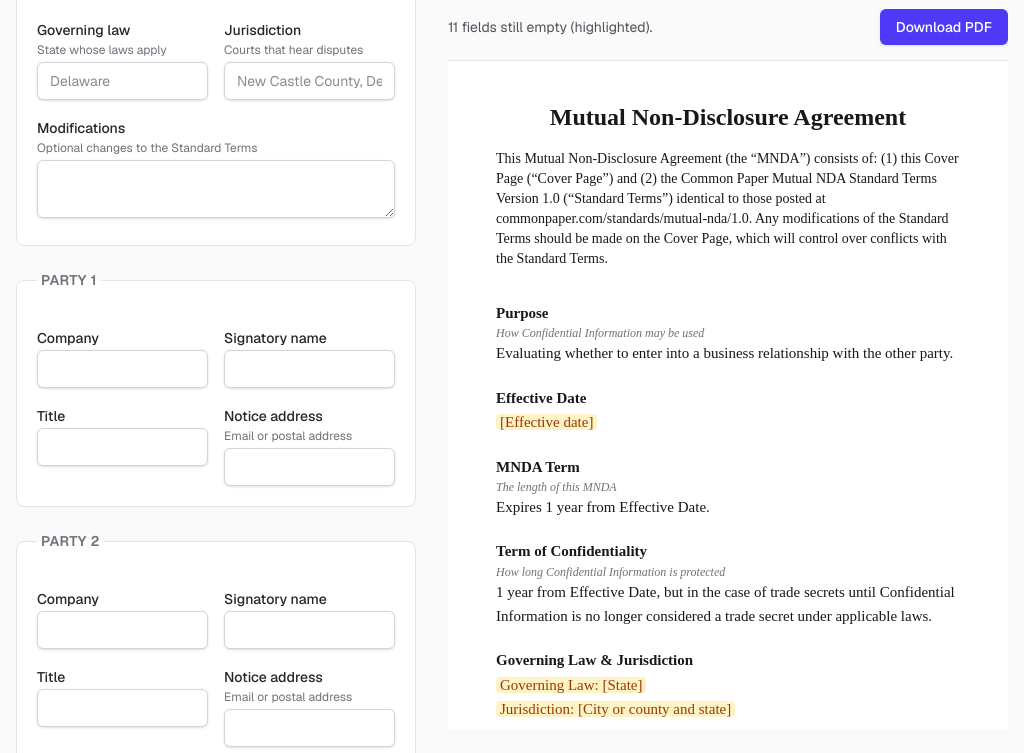
NdaBuilder › updates the preview and missing count as the user types
(page scrolled)
Type "Acme" into the field labelled "Company" below "Party 1".
click(122, 369); type("Acme")  # box left=37, top=350, right=208, bottom=388
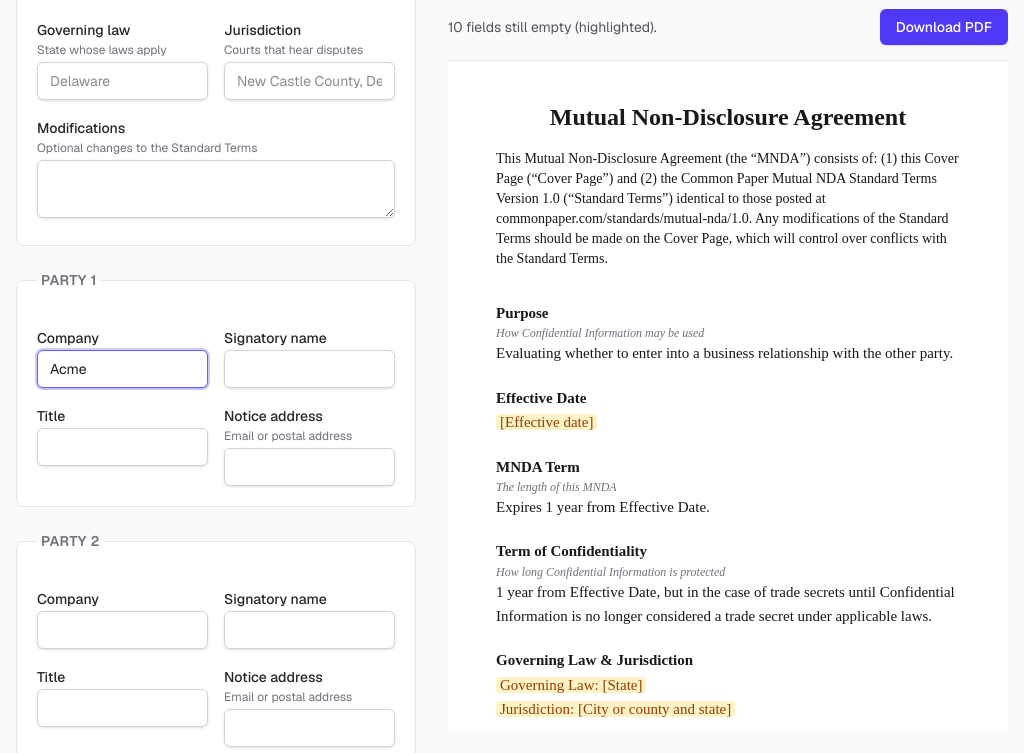
Expected: the text "10 fields still empty (highlighted)." is shown, left=448, top=17, right=657, bottom=37
